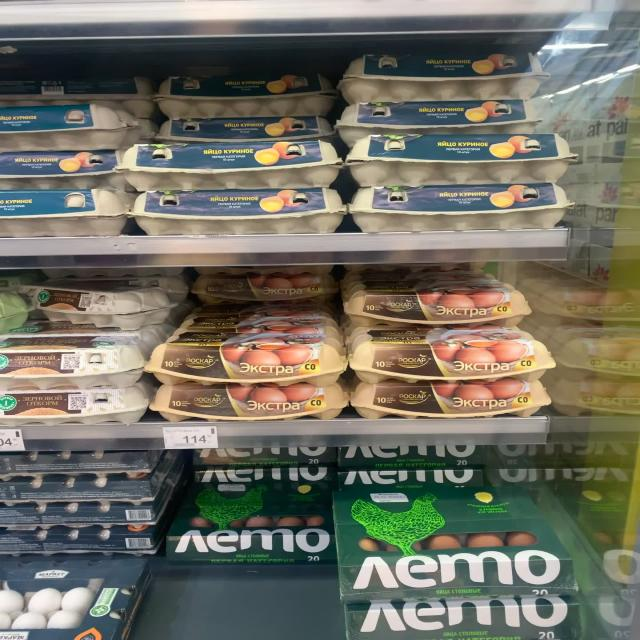egg box: (332, 472, 579, 596), (164, 483, 330, 565), (345, 329, 555, 386), (345, 132, 575, 184), (110, 142, 342, 188), (348, 184, 574, 231), (148, 331, 344, 385), (341, 594, 590, 636), (336, 51, 546, 98), (332, 99, 544, 145), (128, 189, 345, 233), (341, 280, 529, 328), (151, 73, 333, 116), (148, 379, 348, 417), (348, 381, 551, 418), (30, 285, 179, 329), (190, 271, 337, 309), (146, 116, 332, 144), (174, 307, 340, 333)
